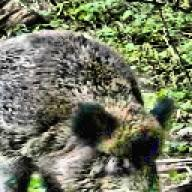boar: (0, 25, 175, 192)
